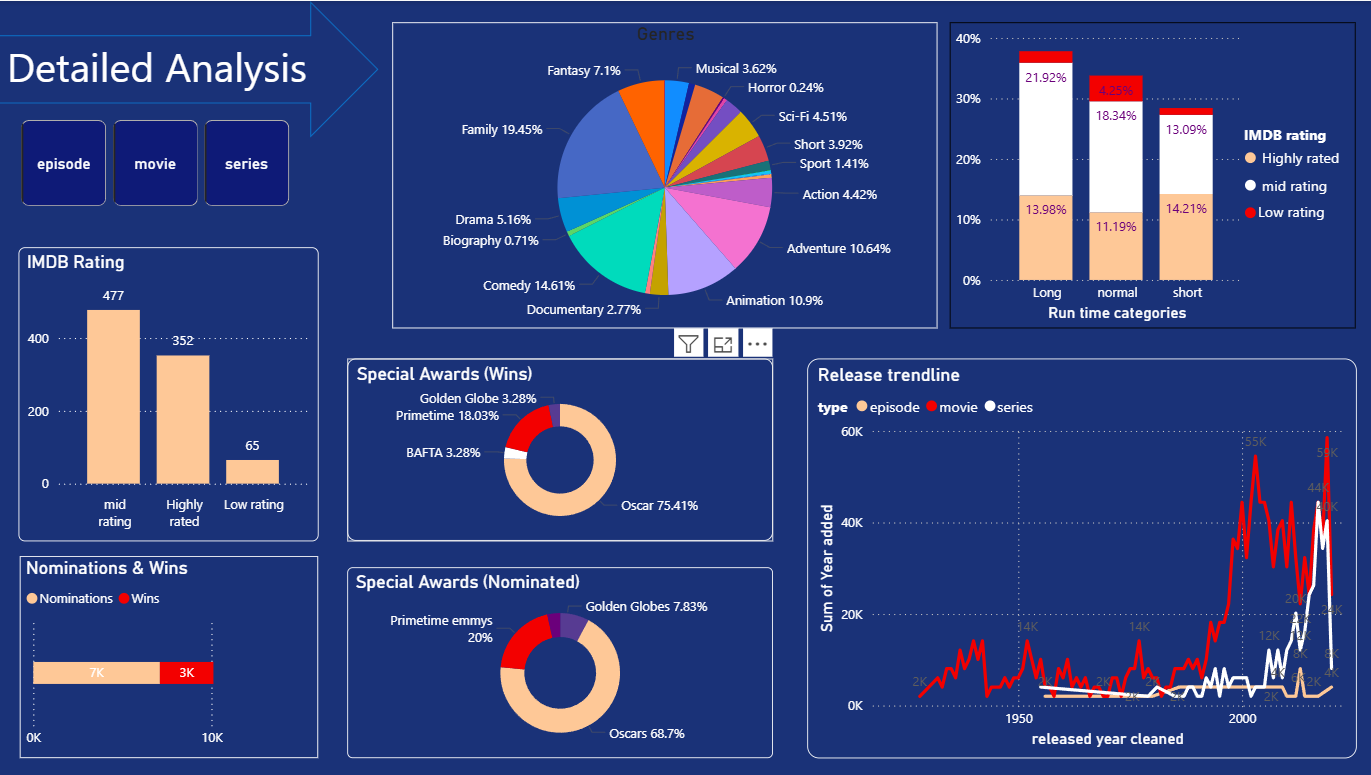

What the dashboard file says about the page in this screenshot:
{"tool":"powerbi","page":{"name":"Detailed Analysis","canvas":[1280,720],"ordinal":1},"visuals":[{"type":"shape","box":[0,0,355.8,127.2],"z":0},{"type":"advancedSlicerVisual","fields":{"Values":["Main_table.type"]},"box":[18.3,106.4,261.7,90.5],"z":1000},{"type":"pieChart","title":"Genres","fields":{"Y":["Sum(Main_table.Musical)","Sum(Main_table.Mystery)","Sum(Main_table.Music)","Sum(Main_table.Horror)","Sum(Main_table.History)","Sum(Main_table.Romance)","Sum(Main_table.Sci-Fi)","Sum(Main_table.Short)","Sum(Main_table.Sport)","Sum(Main_table.Talk Show)","Sum(Main_table.Thriller)","Sum(Main_table.War)"]},"box":[368.1,19.6,507.5,284.9],"z":2000},{"type":"barChart","title":"Nominations & Wins","fields":{"Y":["Sum(Main_table.Nominations)","Sum(Main_table.Wins)"]},"box":[22,516,277.6,188.3],"z":3000},{"type":"columnChart","fields":{"Category":["Main_table.Run time categories"],"Y":["CountNonNull(Main_table.IMDB rating finalised)"],"Series":["Main_table.IMDB rating finalised"]},"box":[887.8,19.6,377.9,284.9],"z":4000},{"type":"columnChart","title":"IMDB Rating","fields":{"Category":["Main_table.IMDB rating finalised"],"Y":["CountNonNull(Main_table.IMDB rating finalised)"]},"box":[20.8,228.7,278.8,273.9],"z":5000},{"type":"lineChart","title":"Release trendline","fields":{"Y":["Sum(Main_table.Year added)"],"Category":["Main_table.released year cleaned"],"Series":["Main_table.type"]},"box":[754.5,332.6,511.1,371.7],"z":6000},{"type":"donutChart","title":"Special Awards (Wins)","fields":{"Y":["Sum(Main_table.Oscar Won)","Sum(Main_table.BAFTA Won)","Sum(Main_table.Primetime won)","Sum(Main_table.Golden Globe won)"]},"box":[326.5,332.6,396.2,170],"z":7000},{"type":"donutChart","title":"Special Awards (Nominated)","fields":{"Y":["Sum(Main_table.Golden Globes Nominated)","Sum(Main_table.Oscars nominated)","Sum(Main_table.Primetime emmys nominated)","Sum(Main_table.BAFTA nominated)"]},"box":[326.5,527,396.2,177.3],"z":8000},{"type":"textbox","box":[0,30.6,299.6,67.3],"z":9000}]}

Visuals, with their boxes in screenshot pixels (x1, y1, x2, y2), scaled from the page's 1280x720 canvas onto the 1371x775 screenshot:
shape: {"x1": 0, "y1": 0, "x2": 381, "y2": 137}
advancedSlicerVisual - Main_table.type: {"x1": 20, "y1": 115, "x2": 300, "y2": 212}
"Genres" pieChart: {"x1": 394, "y1": 21, "x2": 938, "y2": 328}
"Nominations & Wins" barChart: {"x1": 24, "y1": 555, "x2": 321, "y2": 758}
columnChart - Main_table.Run time categories x CountNonNull(Main_table.IMDB rating finalised): {"x1": 951, "y1": 21, "x2": 1356, "y2": 328}
"IMDB Rating" columnChart: {"x1": 22, "y1": 246, "x2": 321, "y2": 541}
"Release trendline" lineChart: {"x1": 808, "y1": 358, "x2": 1356, "y2": 758}
"Special Awards (Wins)" donutChart: {"x1": 350, "y1": 358, "x2": 774, "y2": 541}
"Special Awards (Nominated)" donutChart: {"x1": 350, "y1": 567, "x2": 774, "y2": 758}
textbox: {"x1": 0, "y1": 33, "x2": 321, "y2": 105}
